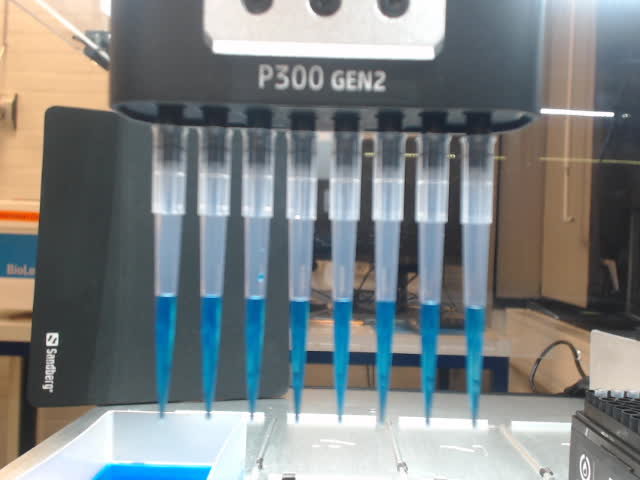Liquid: (151, 286, 185, 421), (327, 289, 360, 426), (461, 300, 495, 432), (415, 296, 448, 425), (285, 290, 315, 425), (242, 292, 273, 421), (197, 288, 227, 420), (372, 293, 401, 426)
Tip: (149, 120, 191, 421), (414, 128, 455, 428), (369, 127, 410, 427), (459, 130, 499, 434), (239, 126, 279, 421), (326, 127, 365, 425), (195, 124, 234, 419), (283, 128, 321, 427)
